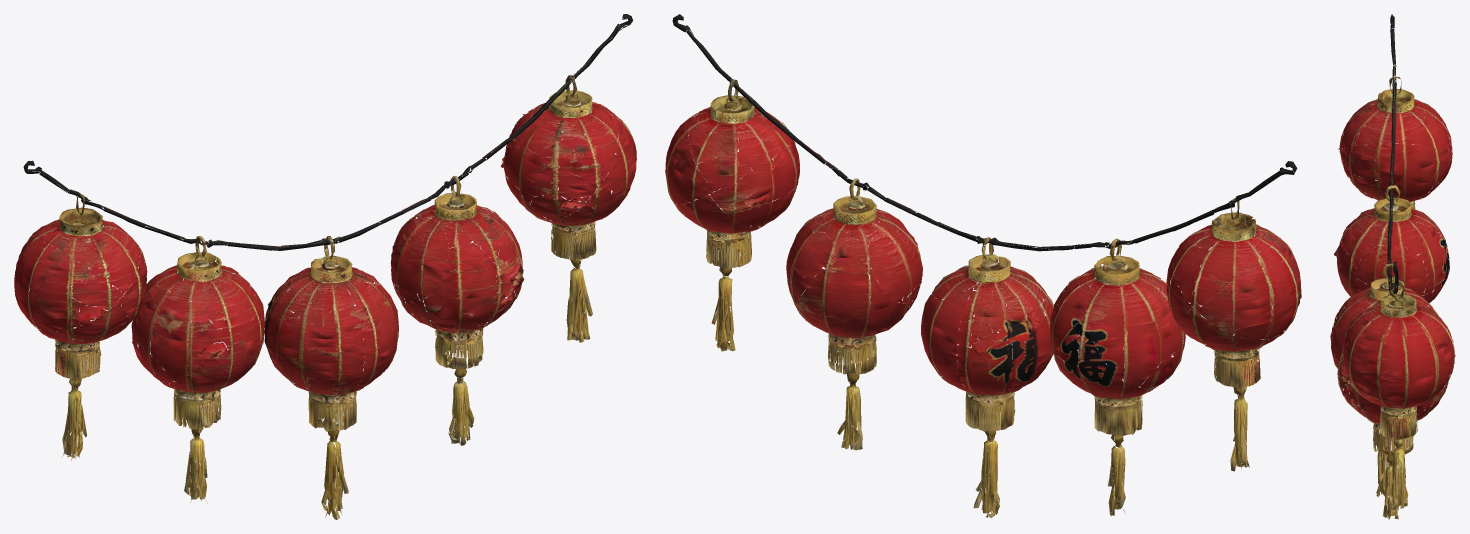
The model's file is m_lanterns.glb.
The picture shows the model from 3 angles, left to right: view 1: azimuth 30°, elevation 25°; view 2: azimuth 150°, elevation 25°; view 3: azimuth 270°, elevation 25°; orthographic projection. The views are drawn at different scales.
Parts seen in each view (by area): view 1: tripo_node_d93baf03-68db-4563-85e7-db9286af3e48; view 2: tripo_node_d93baf03-68db-4563-85e7-db9286af3e48; view 3: tripo_node_d93baf03-68db-4563-85e7-db9286af3e48.
Part boxes in pixels (x1,y1,x2,y2): tripo_node_d93baf03-68db-4563-85e7-db9286af3e48: (14,14,636,519); tripo_node_d93baf03-68db-4563-85e7-db9286af3e48: (665,14,1301,517); tripo_node_d93baf03-68db-4563-85e7-db9286af3e48: (1330,14,1455,519).
Size of the model in its own units: 4.5 by 2.99 by 0.9471.
1 material, 1 textured.
